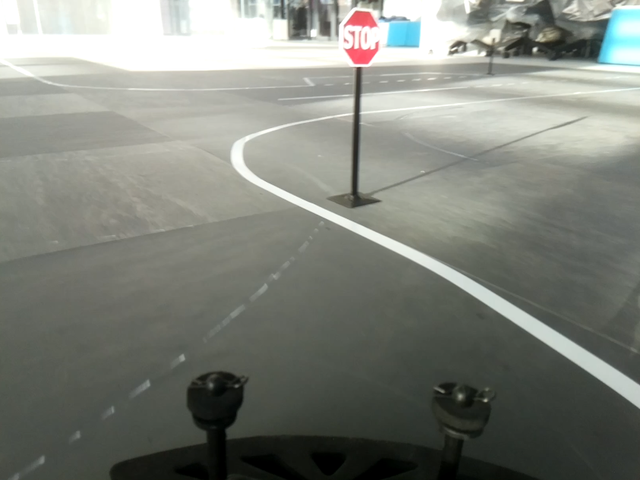stop: (337, 7, 383, 67)
